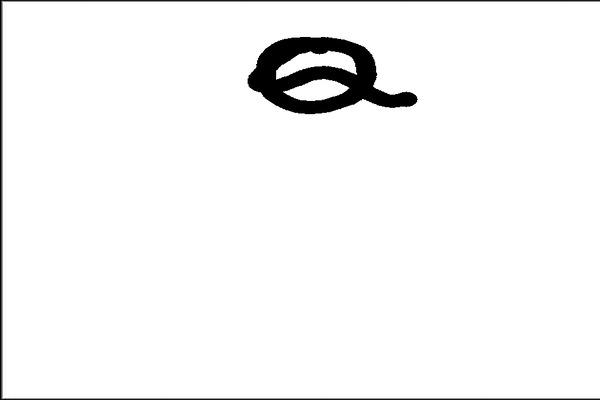Q: (241, 23, 421, 128)
